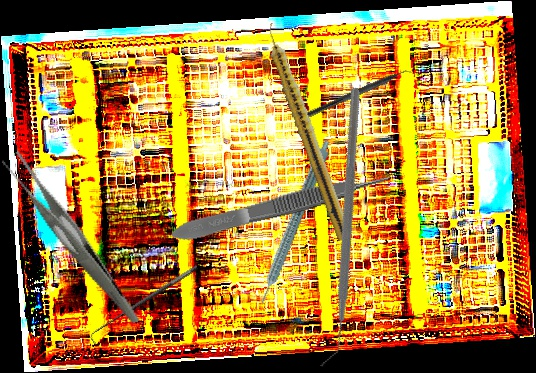Chopper: (211, 85, 466, 369), (302, 63, 418, 127)
Dressing Forceps: (0, 131, 140, 347)
Handpiece: (259, 20, 357, 242), (249, 136, 334, 306)
Hook Surgical: (86, 263, 204, 346)
Tissue Forceps: (168, 167, 396, 246)
